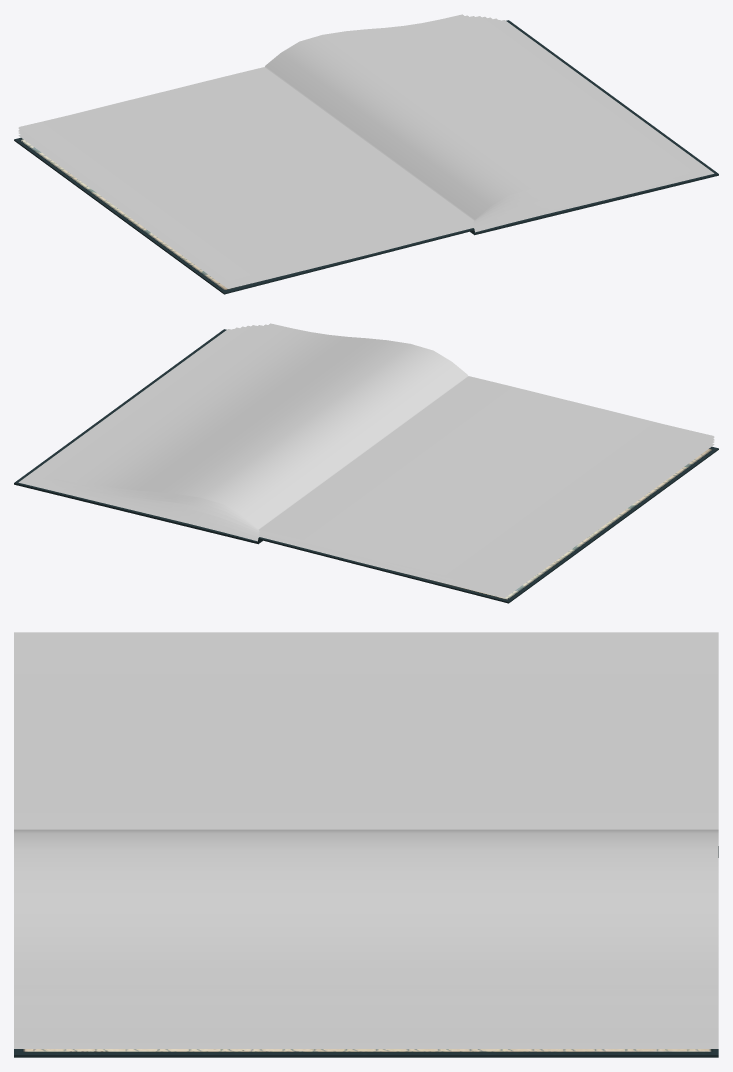
The model's file is Book2.dae.
3 views of the same model, one above another, from view 1: azimuth 30°, elevation 25°; view 2: azimuth 150°, elevation 25°; view 3: azimuth 270°, elevation 25° (orthographic). The views are drawn at different scales.
Parts seen in each view (by area): view 1: Pages 11+12, Pages 13+14, Cover Front, Page 16, Page 17, Page 20, Page 15, Cover Back, Page 19, Page 18, Page 22, Page 21 (+5 smaller); view 2: Pages 11+12, Pages 13+14, Cover Front, Page 16, Page 17, Page 20, Page 15, Cover Back, Page 19, Page 18, Page 22, Page 21 (+5 smaller); view 3: Pages 11+12, Pages 13+14, Page 15, Page 16, Page 20, Cover Back, Page 17, Page 18, Page 19, Page 21, Page 22.
Part boxes in pixels (x1,y1,x2,y2): Pages 11+12: (18,67,473,280); Pages 13+14: (265,14,672,219); Cover Front: (14,137,473,294); Page 16: (265,16,683,220); Page 17: (269,16,689,221); Page 20: (472,18,705,227); Page 15: (265,15,677,220); Cover Back: (474,20,718,234); Page 19: (473,17,699,224); Page 18: (473,16,694,223); Page 22: (475,20,714,232); Page 21: (473,20,709,230); Pages 11+12: (259,376,714,589); Pages 13+14: (60,323,467,528); Cover Front: (259,446,718,603); Page 16: (49,325,467,529); Page 17: (43,325,463,530); Page 20: (27,327,260,536); Page 15: (55,324,467,529); Cover Back: (14,329,257,543); Page 19: (33,326,259,533); Page 18: (38,325,259,532); Page 22: (18,329,257,541); Page 21: (23,329,259,539); Pages 11+12: (14,632,718,829); Pages 13+14: (14,829,718,988); Page 15: (14,988,718,996); Page 16: (14,996,718,1004); Page 20: (14,1028,718,1036); Cover Back: (14,1049,718,1057); Page 17: (14,1005,718,1012); Page 18: (14,1012,718,1019); Page 19: (14,1020,718,1027); Page 21: (14,1036,718,1043); Page 22: (14,1043,718,1048).
Bounding box in the file's own units: 10.54 × 0.6613 × 7.76.
Materials: 6 (6 with a texture image).
